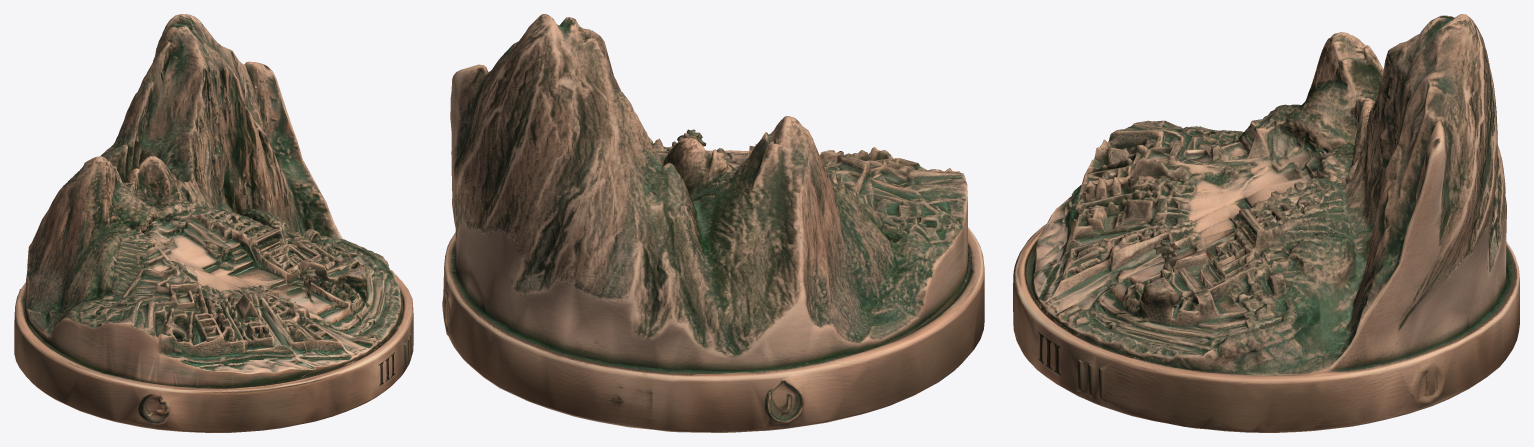
Rendered from machu_picchu_gold.glb.
3 views of the same model, side by side, from view 1: azimuth 30°, elevation 25°; view 2: azimuth 150°, elevation 25°; view 3: azimuth 270°, elevation 25° (orthographic). The views are drawn at different scales.
Visible parts, largest first — view 1: Mesh_0; view 2: Mesh_0; view 3: Mesh_0.
Part boxes in pixels (x1=…): Mesh_0: x1=14, y1=14, x2=413, y2=432; Mesh_0: x1=442, y1=14, x2=984, y2=432; Mesh_0: x1=1013, y1=14, x2=1519, y2=432.
Size of the model in its own units: 1.91 by 1.43 by 1.91.
1 material, 1 textured.
